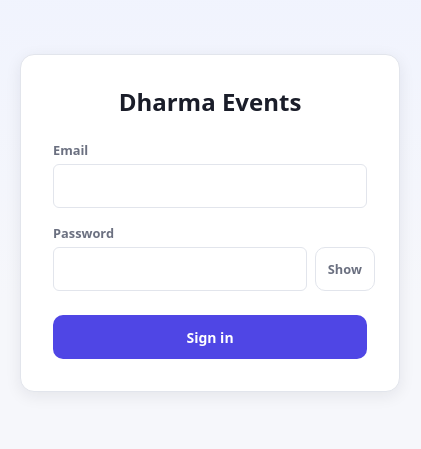
it: LoginPage › shows an error message when login fails
In the field labelled "Email": (210, 186) [53,164,367,208], type "someone@example.test"
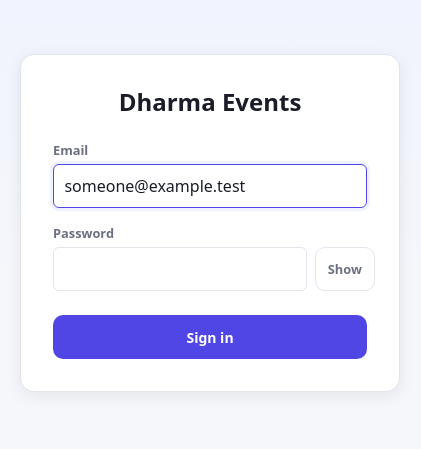
In the password field labelled "Password": (180, 269) [53,247,307,291], type "wrong-password"
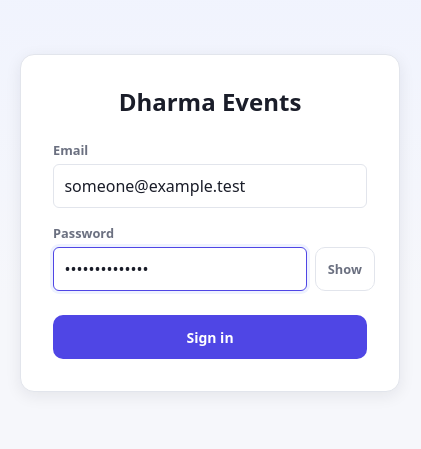
Click the button "Sign in": (210, 337) [53,315,367,359]
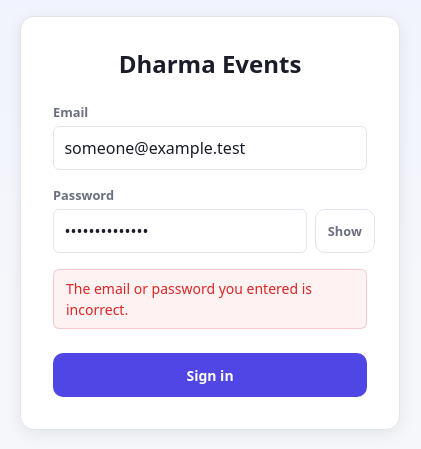
Now the message shows "incorrect", box [66,279,312,319]
